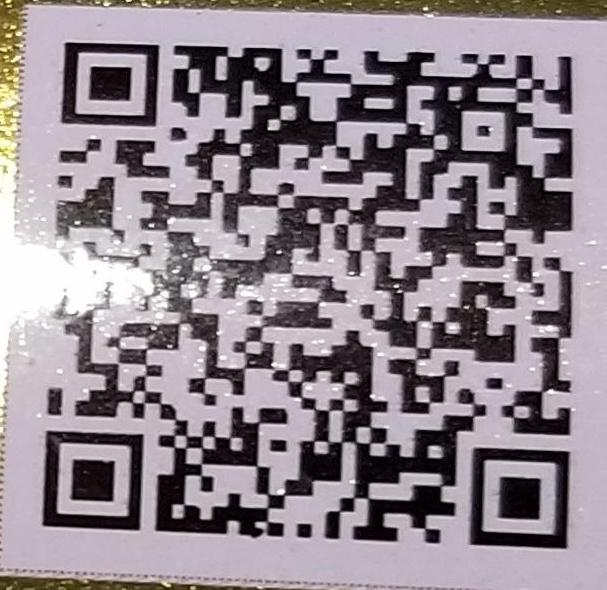qrcode: (41, 42, 576, 549)
